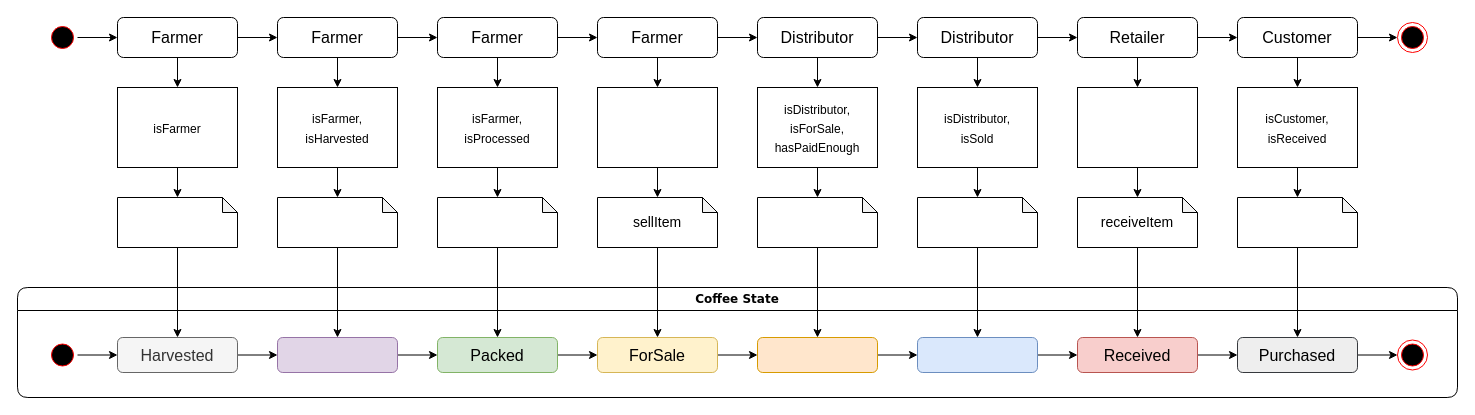
Some shapes in this 1475 by 415 pixel diagram are drawn without their labels. The shapes that lost their labels are listed below. From the top down, each one's centre as x and y in pixels, then its label:
the point at 657,127: isFarmer, isPacked
the point at 1137,127: isRetailer, isShiped
the point at 177,222: harvestItem
the point at 337,222: processItem
the point at 497,222: packItem
the point at 817,222: buyItem
the point at 977,222: shipItem
the point at 1297,222: purchaseItem
the point at 337,354: Processed
the point at 817,354: Sold
the point at 977,354: Shiped
